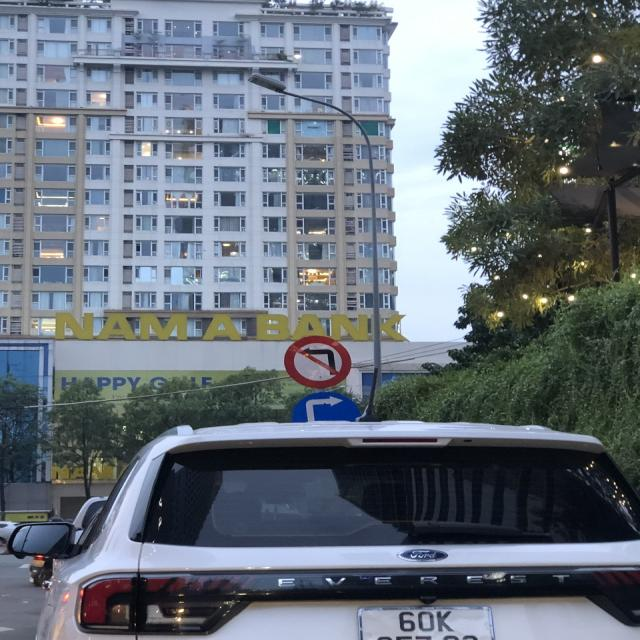Bien bao cam re trai: (272, 327, 361, 390)
